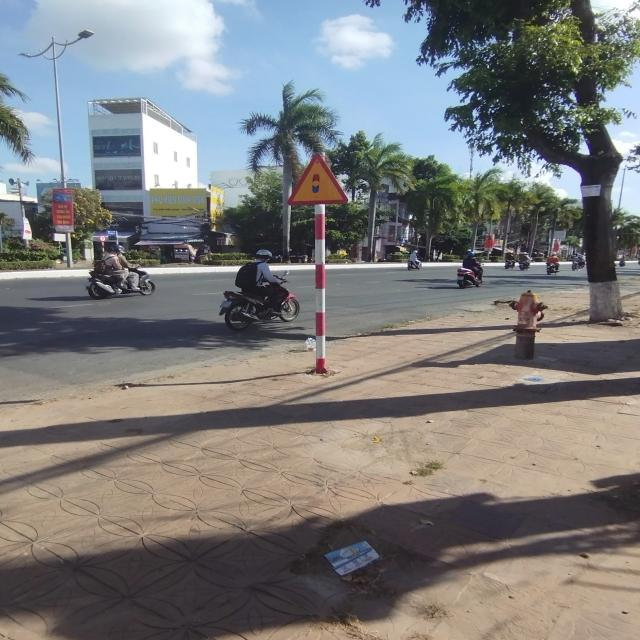Duong_Co_Go_Giam_Toc: (286, 152, 350, 206)
